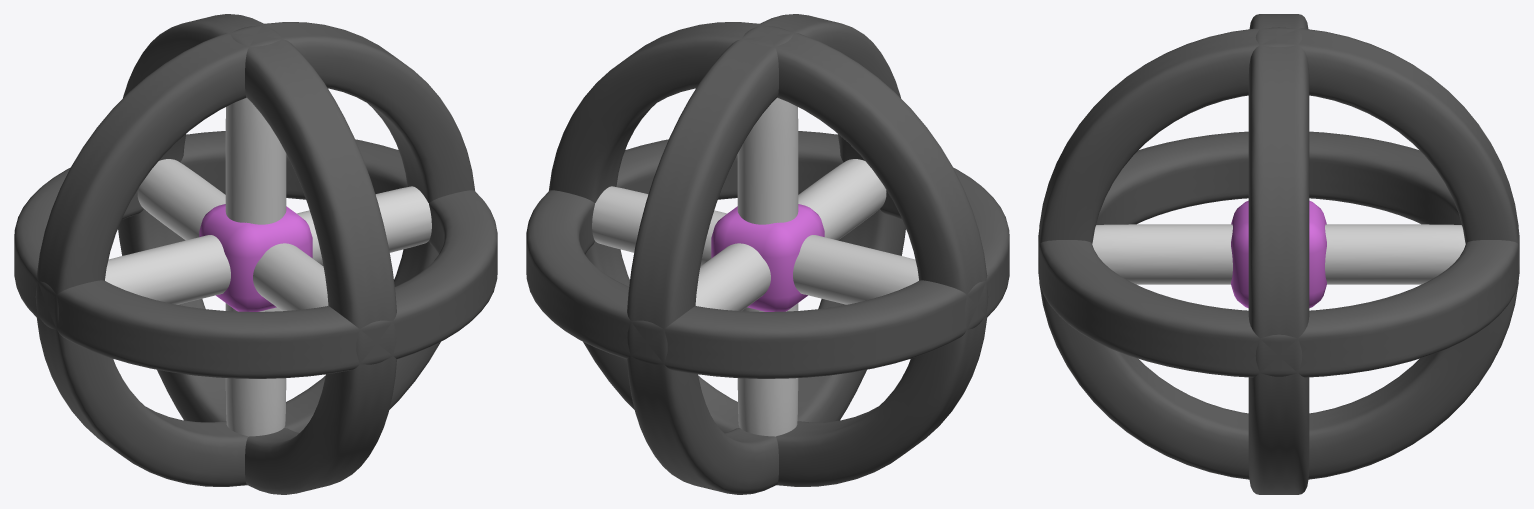
The model's file is healingStation.fbx.
3 renders of one model, left to right at view 1: azimuth 30°, elevation 25°; view 2: azimuth 150°, elevation 25°; view 3: azimuth 270°, elevation 25°, orthographic.
Visible parts, largest first — view 1: Tube_2, Tube, Tube_3, Cylinder_3, Cylinder_2, Cylinder, Cube; view 2: Tube_2, Tube, Tube_3, Cylinder_3, Cylinder_2, Cylinder, Cube; view 3: Tube, Tube_3, Tube_2, Cylinder, Cube.
Part boxes in pixels (x1,y1,x2,y2): Tube_2: (35,22,474,486); Tube: (118,14,396,494); Tube_3: (14,131,497,378); Cylinder_3: (225,97,286,436); Cylinder_2: (105,186,431,304); Cylinder: (137,159,328,311); Cube: (199,204,312,311); Tube_2: (549,22,988,486); Tube: (627,14,905,494); Tube_3: (526,131,1009,378); Cylinder_3: (737,97,798,436); Cylinder_2: (592,186,918,304); Cylinder: (695,159,886,311); Cube: (711,204,824,311); Tube: (1038,27,1519,479); Tube_3: (1038,131,1519,377); Tube_2: (1248,14,1309,494); Cylinder: (1092,224,1465,284); Cube: (1231,200,1326,308).
Size of the model in its own units: 558 by 558 by 558.
